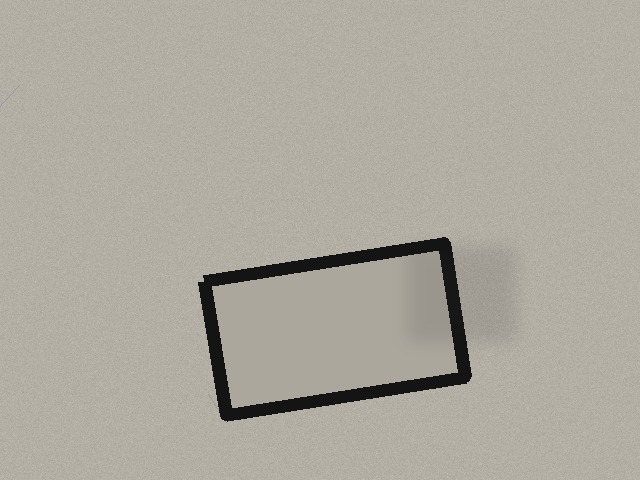parking_area: (204, 243, 465, 415)
